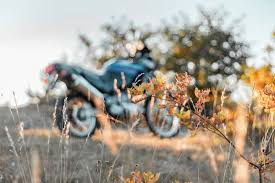motorcycle: (36, 43, 186, 140)
